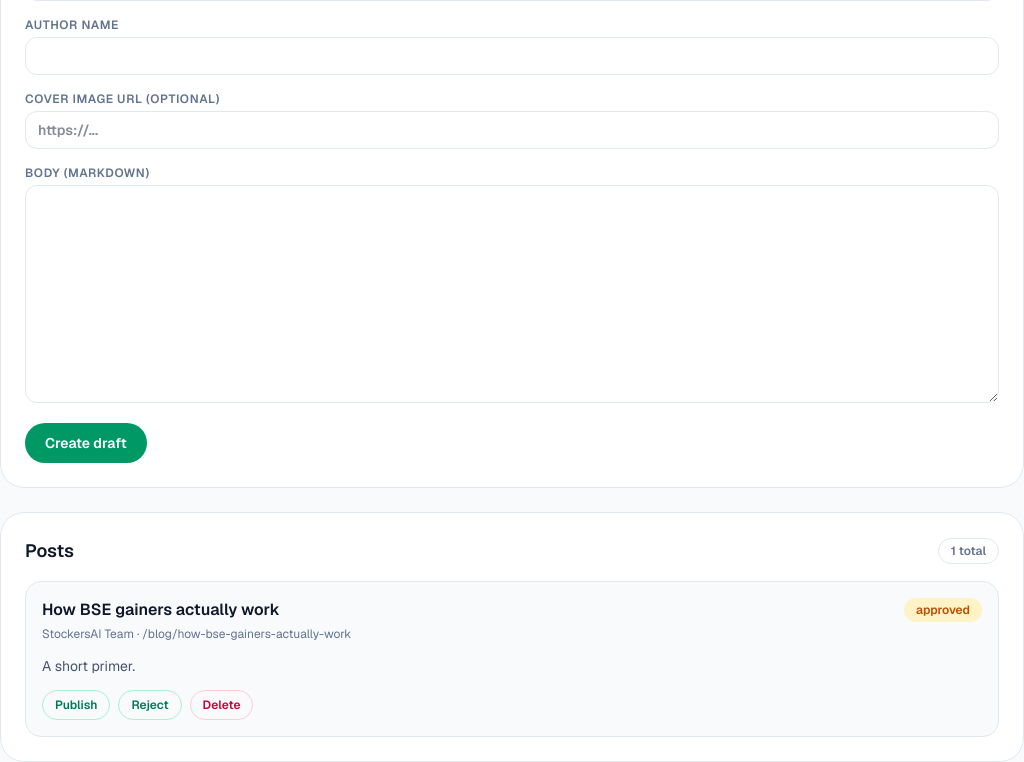
AdminBlog › publishes an approved post
The image size is (1024, 762).
(page scrolled)
Check: the text "approved" is shown, box [904, 598, 982, 622]
Click the button "Publish".
click(76, 705)  # box [42, 690, 110, 720]
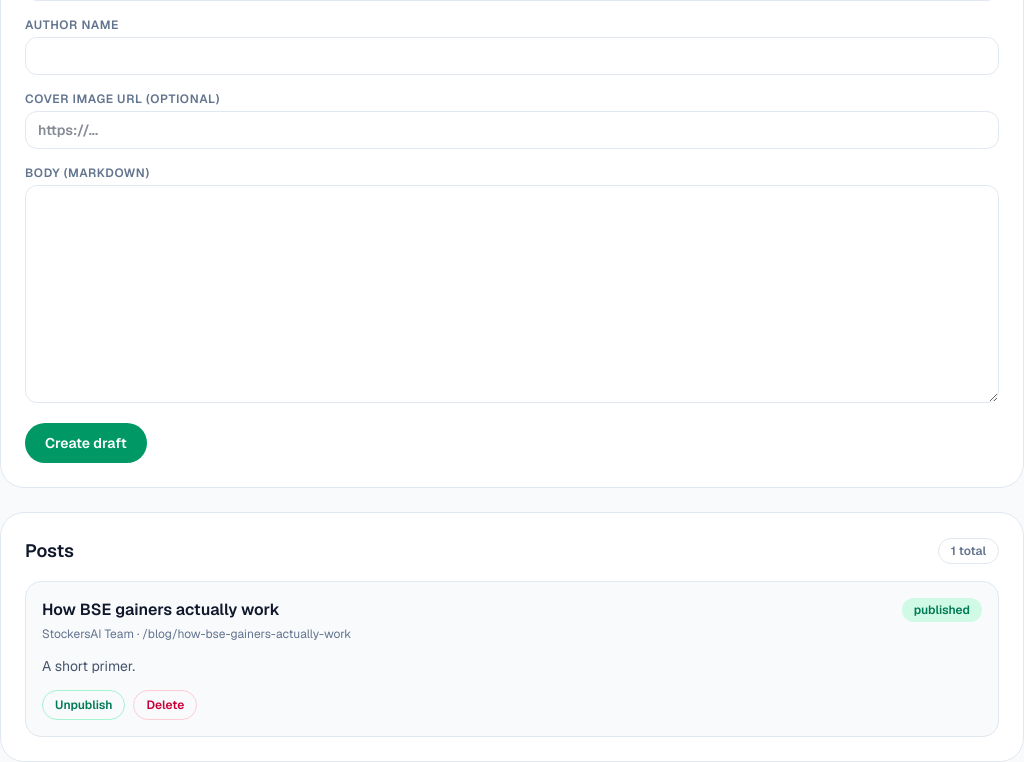
Check: the text "published" is shown, box [902, 598, 982, 622]
